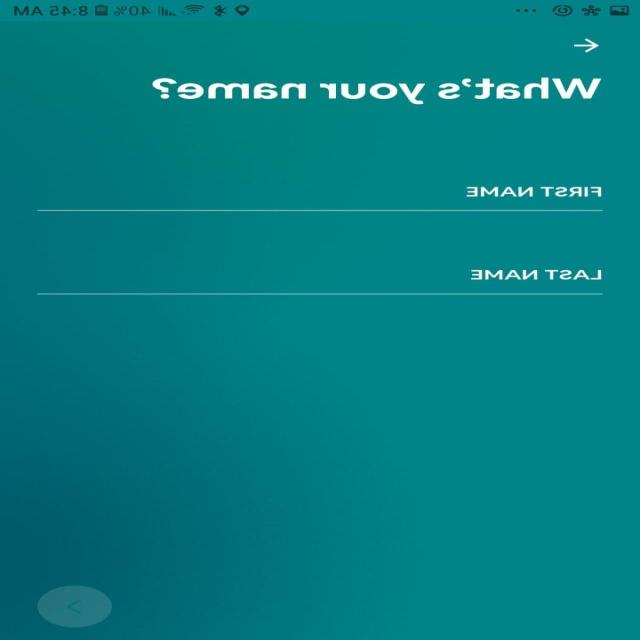EditText: (37, 186, 604, 211), (37, 270, 603, 294)
Icon: (37, 584, 114, 628), (573, 39, 599, 53)
Text: (153, 77, 603, 105), (466, 186, 602, 196), (471, 270, 602, 280)
